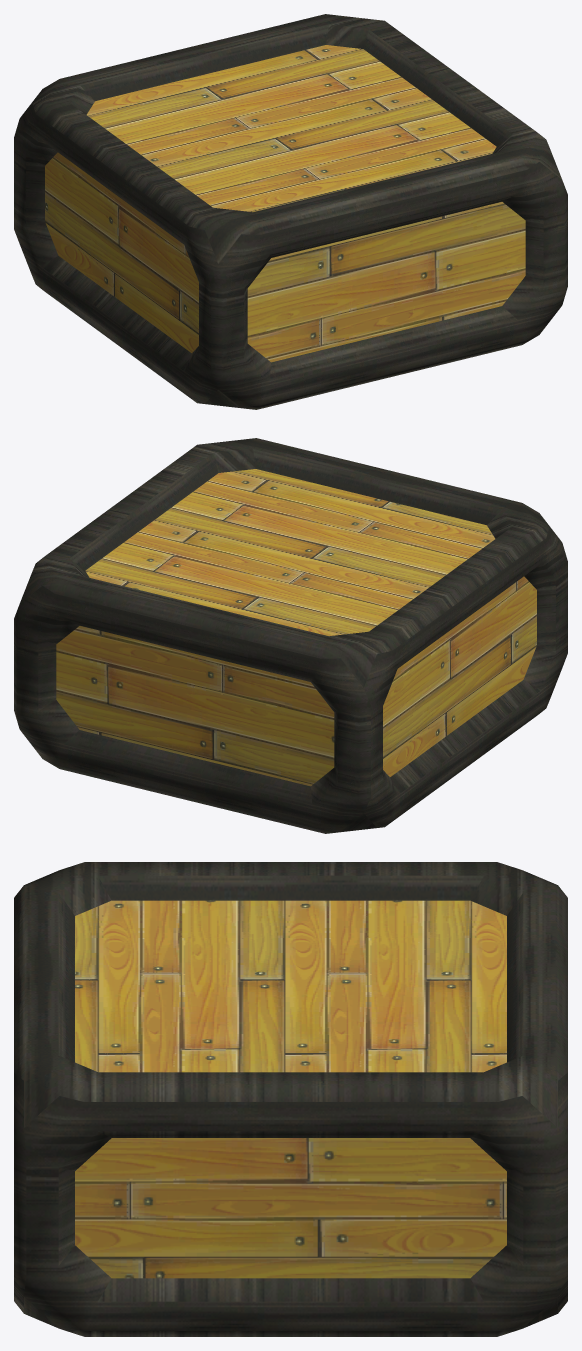
The model's file is HikeGardenBonusPathStep.fbx.
3 views of the same model, one above another, from view 1: azimuth 30°, elevation 25°; view 2: azimuth 150°, elevation 25°; view 3: azimuth 270°, elevation 25° (orthographic). The views are drawn at different scales.
Parts seen in each view (by area): view 1: Cube.001, Cube.000; view 2: Cube.001, Cube.000; view 3: Cube.001, Cube.000.
Part boxes in pixels (left/top/right/bottom): Cube.001: left=45, top=45, right=525, bottom=362; Cube.000: left=14, top=14, right=567, bottom=409; Cube.001: left=56, top=469, right=536, bottom=786; Cube.000: left=14, top=438, right=567, bottom=833; Cube.001: left=75, top=900, right=506, bottom=1278; Cube.000: left=14, top=862, right=567, bottom=1336.
Bounding box in the file's own units: 30000 × 15000 × 30000.
2 materials, 2 textured.
